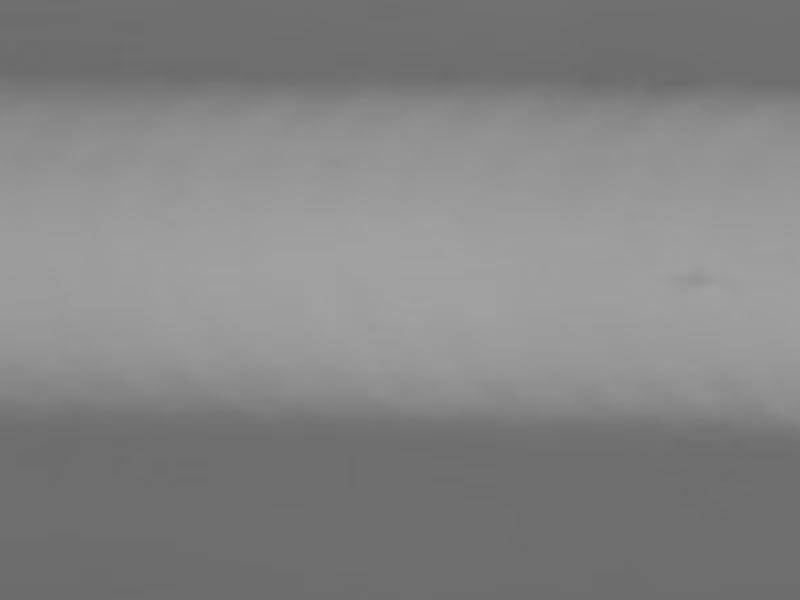defect: (681, 271, 714, 284)
